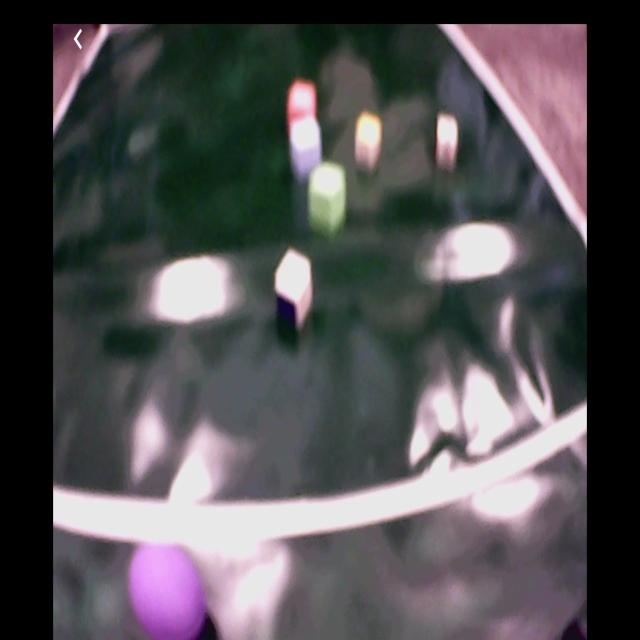ball: (128, 540, 206, 636)
